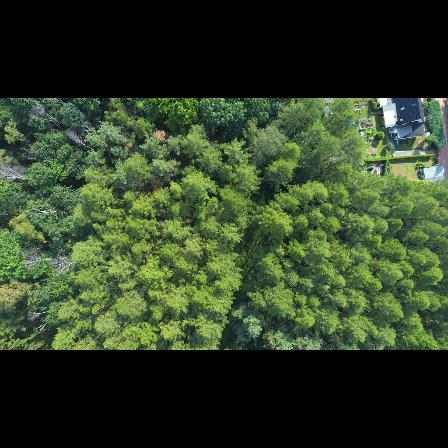Dead: (24, 100, 60, 129), (31, 200, 66, 221), (0, 164, 32, 186), (66, 130, 94, 153), (19, 248, 46, 270), (51, 256, 76, 277), (25, 308, 51, 321)
